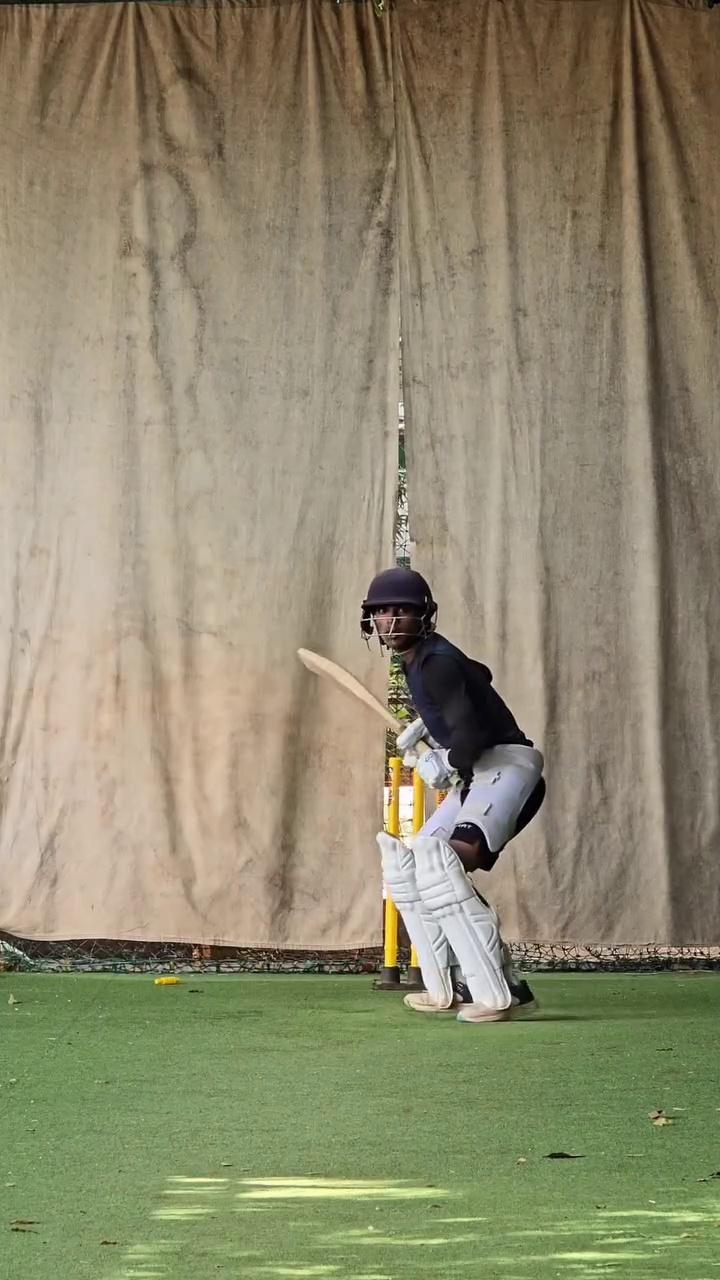bat: (291, 635, 406, 747)
